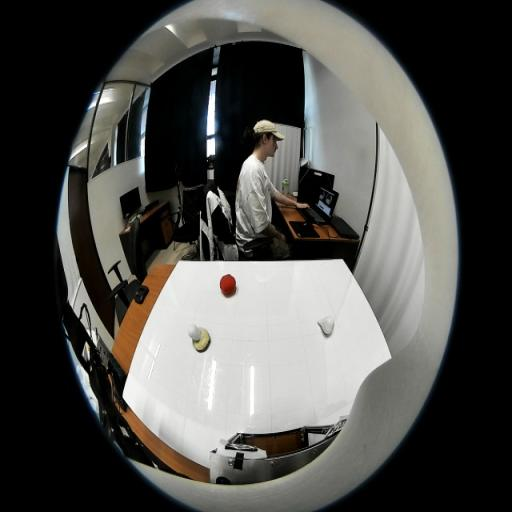Mushroom: (188, 324, 210, 352)
Onion: (316, 316, 334, 334)
Tomato: (220, 274, 236, 295)
